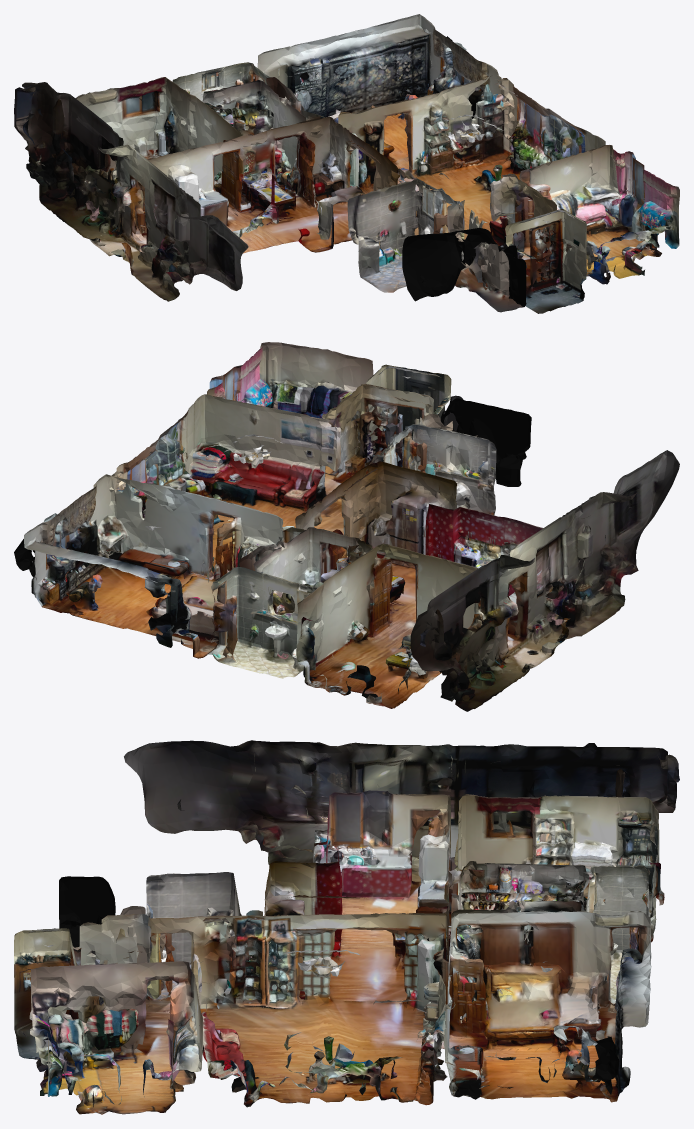
File: GrandmasHouse-v1-v1.glb
3 views of the same model, one above another, from view 1: azimuth 30°, elevation 25°; view 2: azimuth 150°, elevation 25°; view 3: azimuth 270°, elevation 25° (orthographic). The views are drawn at different scales.
Size of the model in its own units: 14.95 by 3.32 by 15.88.
Materials: 10 (10 with a texture image).
